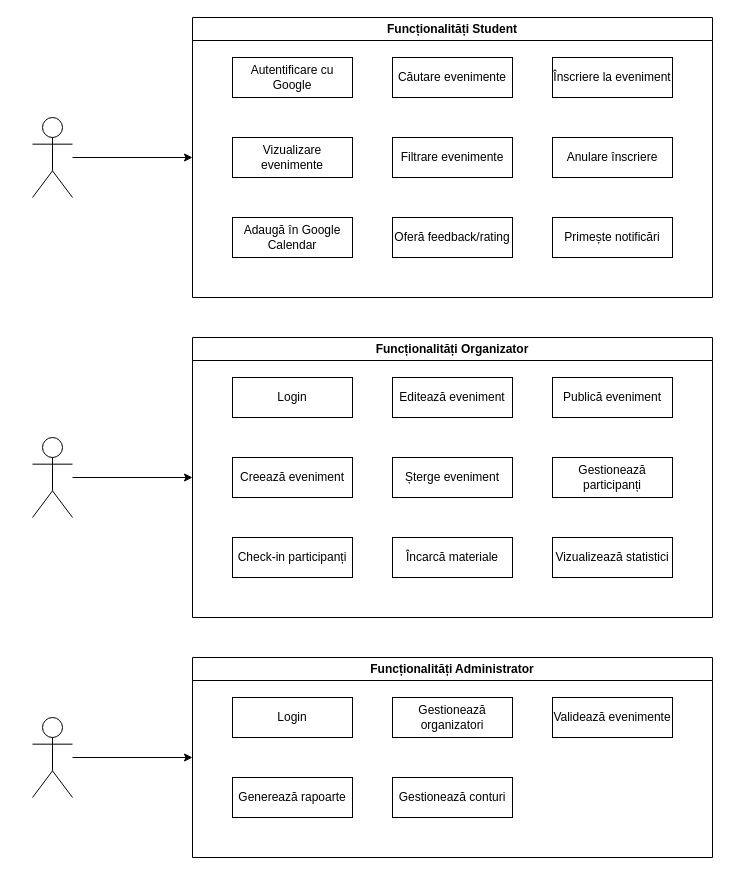
The diagram is 730 pixels wide and 875 high, and some of its shapes have lost their labels. The shapes that lost their labels are listed below. From the top down, each one's centre as x and y in pixels, then its label:
the point at 52,157: Student
the point at 52,477: Organizator
the point at 52,757: Administrator
